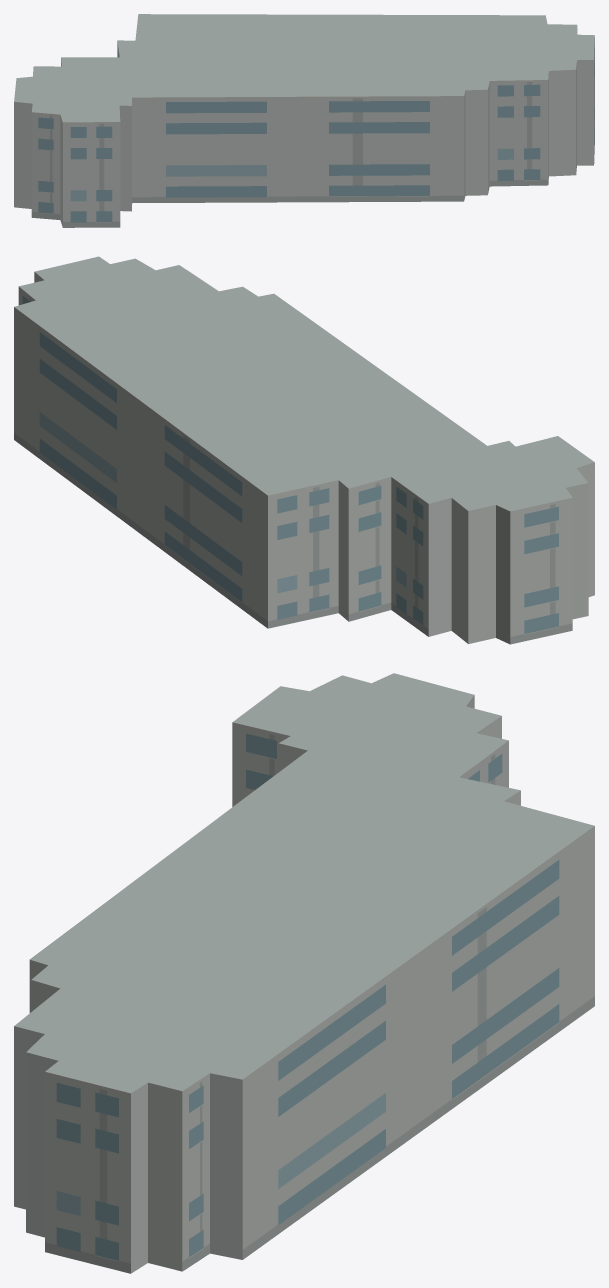
The model's file is survey-upis-32974894.glb.
3 renders of one model, top to bottom at view 1: azimuth 30°, elevation 25°; view 2: azimuth 150°, elevation 25°; view 3: azimuth 270°, elevation 25°, orthographic. The views are drawn at different scales.
Visible parts, largest first — view 1: survey-upis-32974894.tmp; view 2: survey-upis-32974894.tmp; view 3: survey-upis-32974894.tmp.
Part boxes in pixels (x1,y1,x2,y2): survey-upis-32974894.tmp: [14, 14, 594, 227]; survey-upis-32974894.tmp: [14, 256, 594, 644]; survey-upis-32974894.tmp: [14, 673, 594, 1273].
Size of the model in its own units: 67.96 by 13.6 by 39.7.
